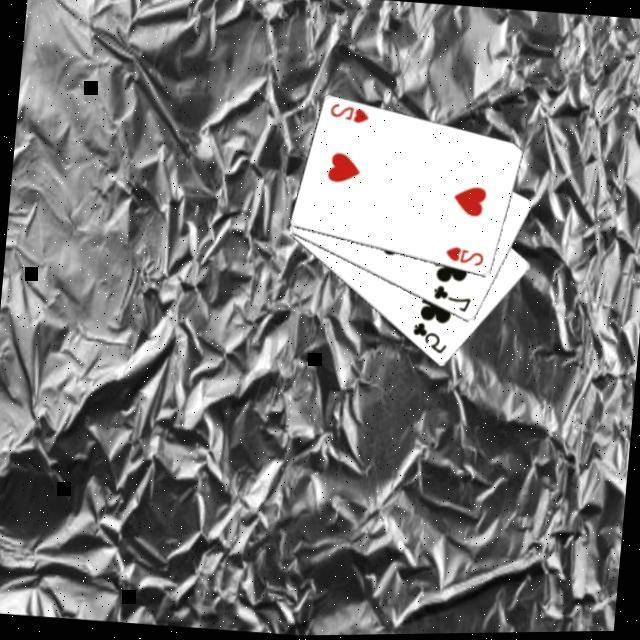2H: (328, 101, 374, 130), (443, 244, 489, 272)
5C: (408, 319, 454, 360)
7C: (429, 282, 476, 318)
